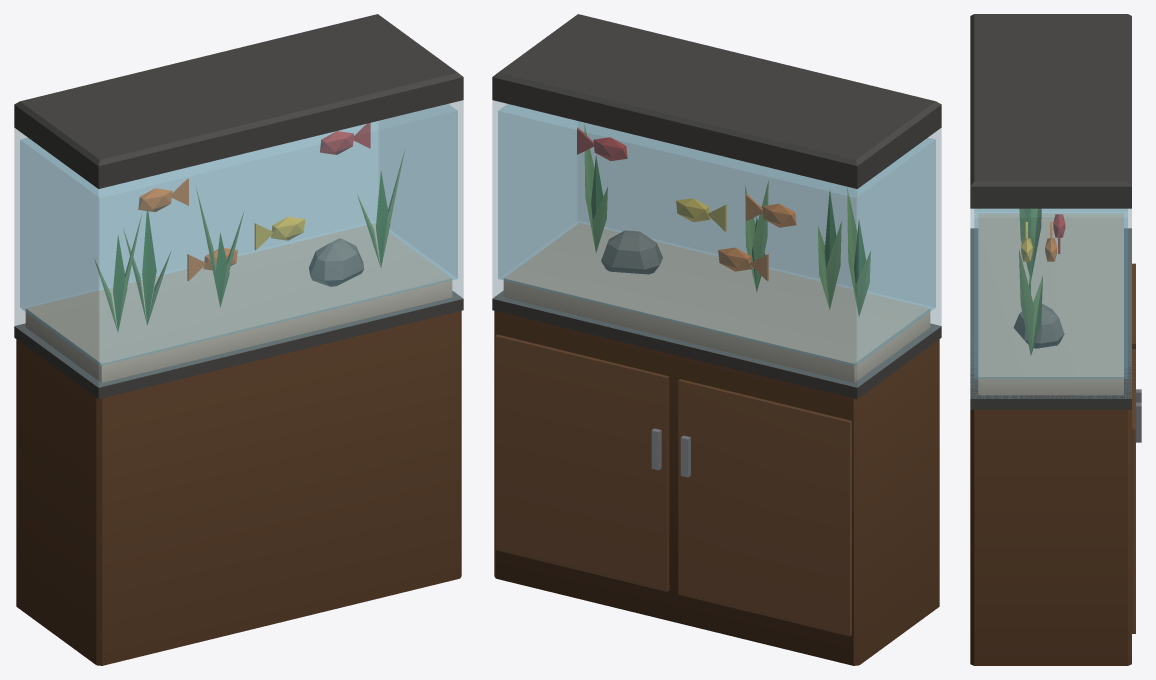
File: aquarium_01.glb
3 renders of one model, left to right at view 1: azimuth 30°, elevation 25°; view 2: azimuth 150°, elevation 25°; view 3: azimuth 270°, elevation 25°, orthographic. The views are drawn at different scales.
Parts seen in each view (by area): view 1: aquarium_01_mesh, aquarium_01_glass, aquarium_01_fish_mesh; view 2: aquarium_01_mesh, aquarium_01_glass, aquarium_01_fish_mesh; view 3: aquarium_01_mesh, aquarium_01_glass, aquarium_01_fish_mesh.
Boxes of the visible parts, <box> form: aquarium_01_mesh: <box>14,14,463,665</box>; aquarium_01_glass: <box>14,100,463,387</box>; aquarium_01_fish_mesh: <box>138,123,370,280</box>; aquarium_01_mesh: <box>492,14,941,665</box>; aquarium_01_glass: <box>492,100,941,387</box>; aquarium_01_fish_mesh: <box>577,127,796,280</box>; aquarium_01_mesh: <box>970,14,1141,665</box>; aquarium_01_glass: <box>970,208,1131,398</box>; aquarium_01_fish_mesh: <box>1021,214,1065,261</box>.
Size of the model in its own units: 1 by 1.32 by 0.424.
Materials: 3 (3 with a texture image).
